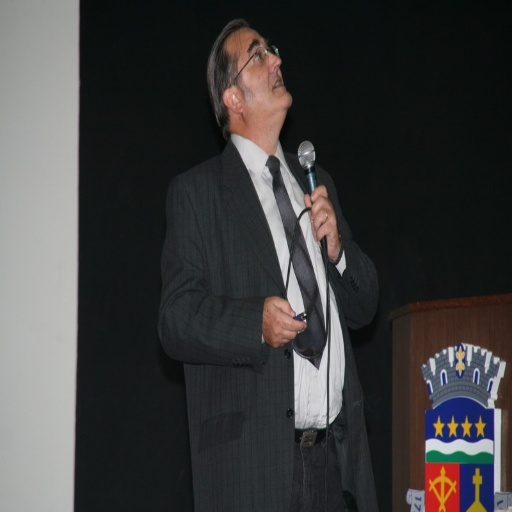hand: (303, 183, 339, 260), (261, 293, 306, 351)
